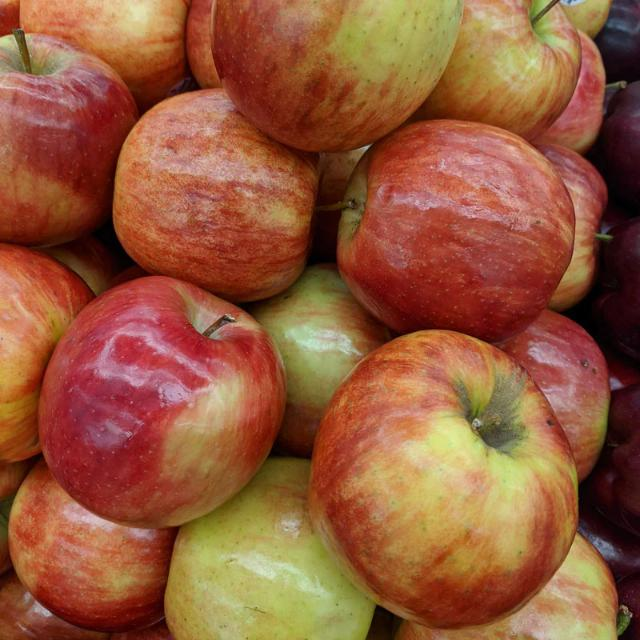Apples: (310, 334, 580, 626), (39, 276, 279, 526), (338, 120, 576, 342), (117, 86, 320, 298), (214, 0, 458, 144), (0, 29, 130, 248), (9, 463, 172, 627), (446, 0, 584, 140)
